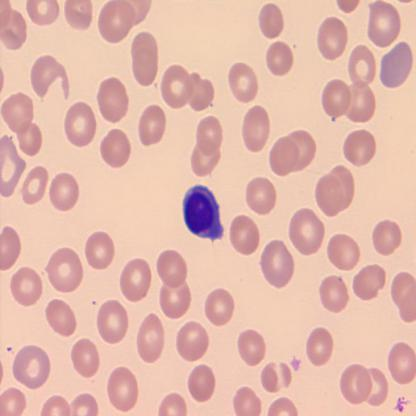NRC: (181, 184, 226, 244)
